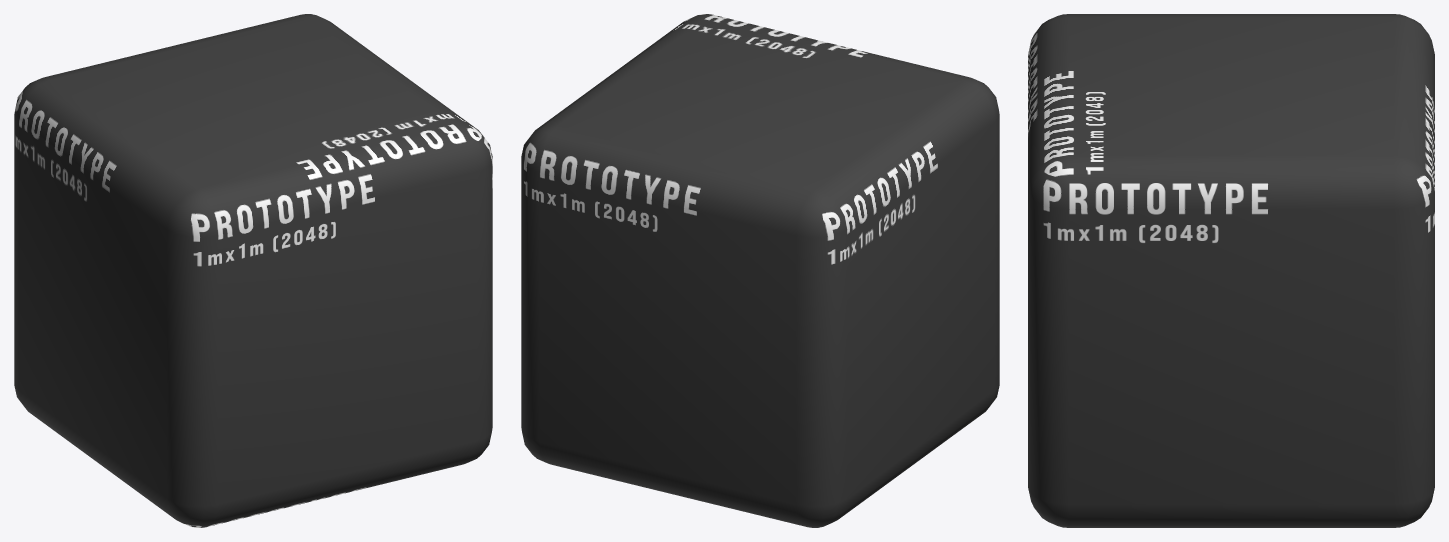
File: RoundedCube.obj
The picture shows the model from 3 angles, left to right: view 1: azimuth 30°, elevation 25°; view 2: azimuth 150°, elevation 25°; view 3: azimuth 270°, elevation 25°; orthographic projection. The views are drawn at different scales.
Parts seen in each view (by area): view 1: Mesh1 Model; view 2: Mesh1 Model; view 3: Mesh1 Model.
Boxes of the visible parts, x1,y1,x2,y2 form: Mesh1 Model: [14, 14, 492, 527]; Mesh1 Model: [521, 14, 999, 527]; Mesh1 Model: [1028, 14, 1434, 527].
Size of the model in its own units: 100 by 100 by 100.
Materials: 1 (1 with a texture image).
